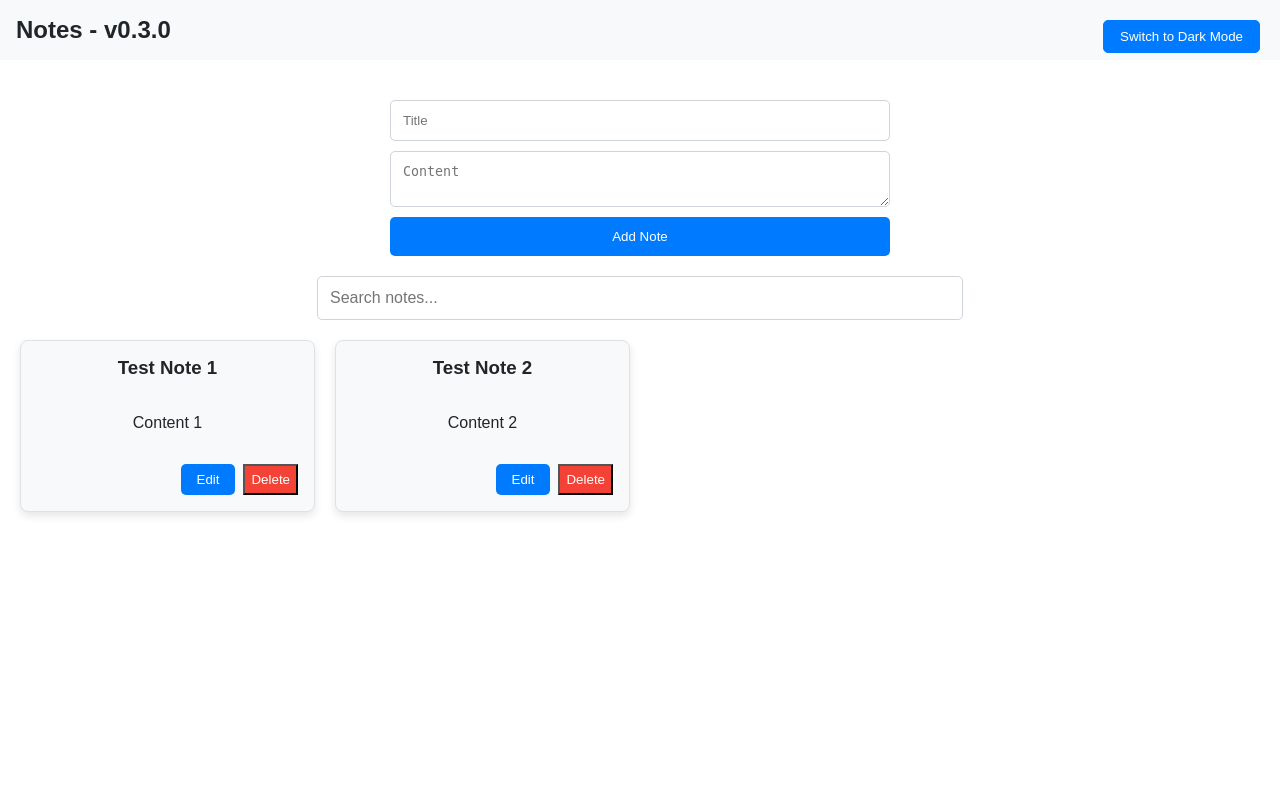
it: App component › toggles theme
This screenshot has width=1280, height=800.
Check: the heading "Test Note 1" is shown, box [118,357,217,378]
Click the button "Switch to Dark Mode".
click(1182, 36)  # box [1103,20,1260,53]
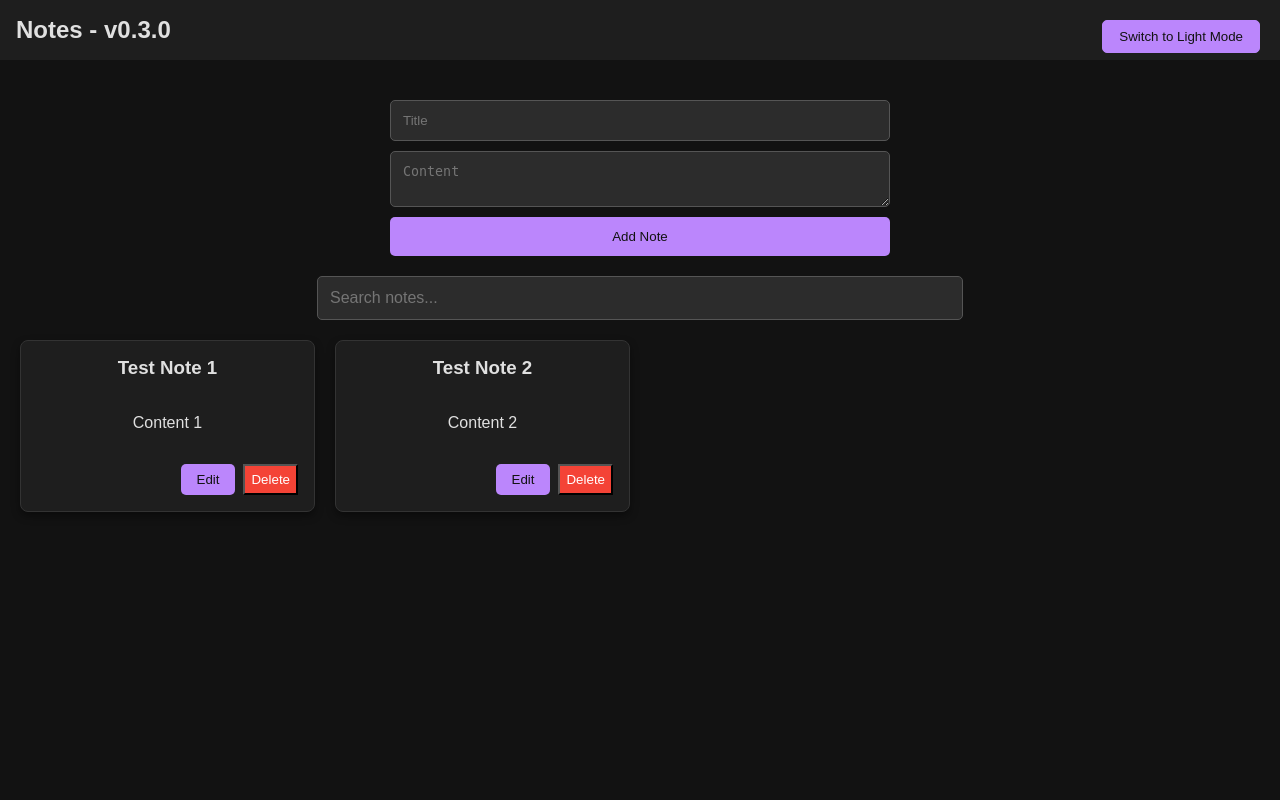
Check: the button "Switch to Light Mode" is shown, box [1102,20,1260,53]
